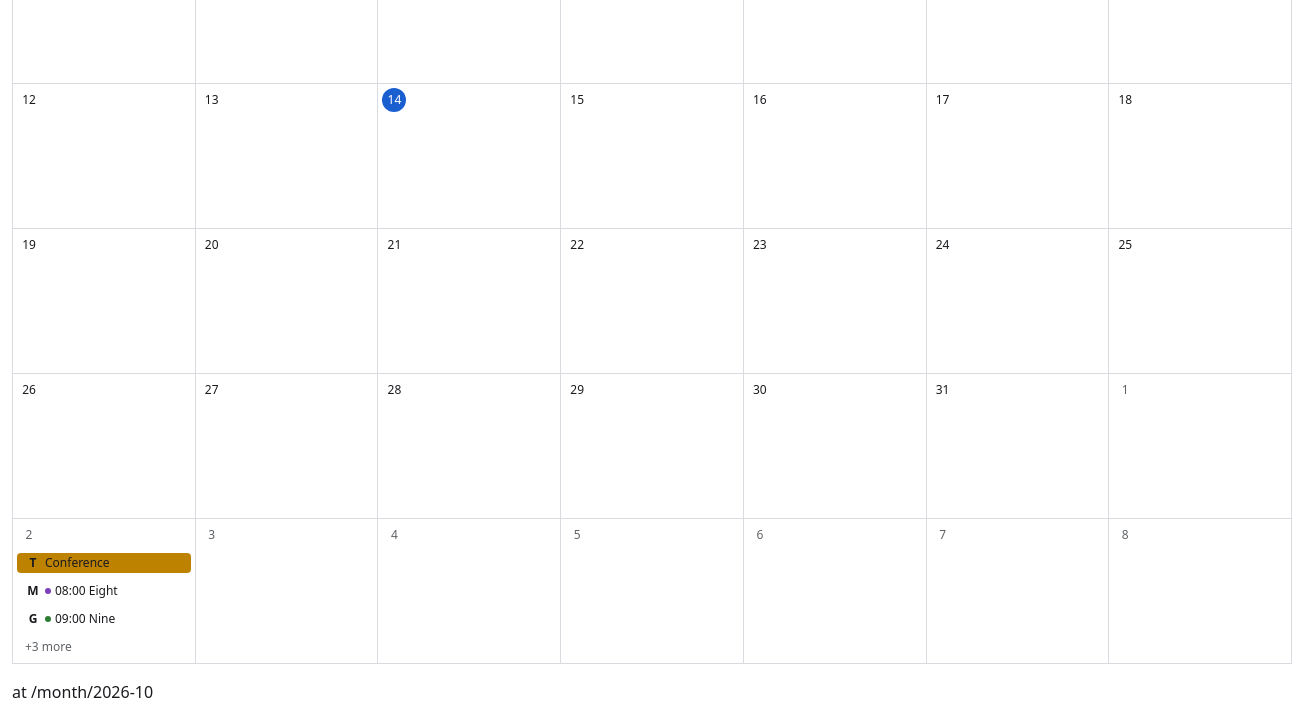
overflow by breakpoint (AC-5, Block 6) › the more-button of a trailing day zero-pads its URL: /day/2026-11-02
(page scrolled)
What coordinates should you click on to do the following:
click the button "+3 more"
I would click on:
 (48, 647)
Its box is [17,635,80,659].
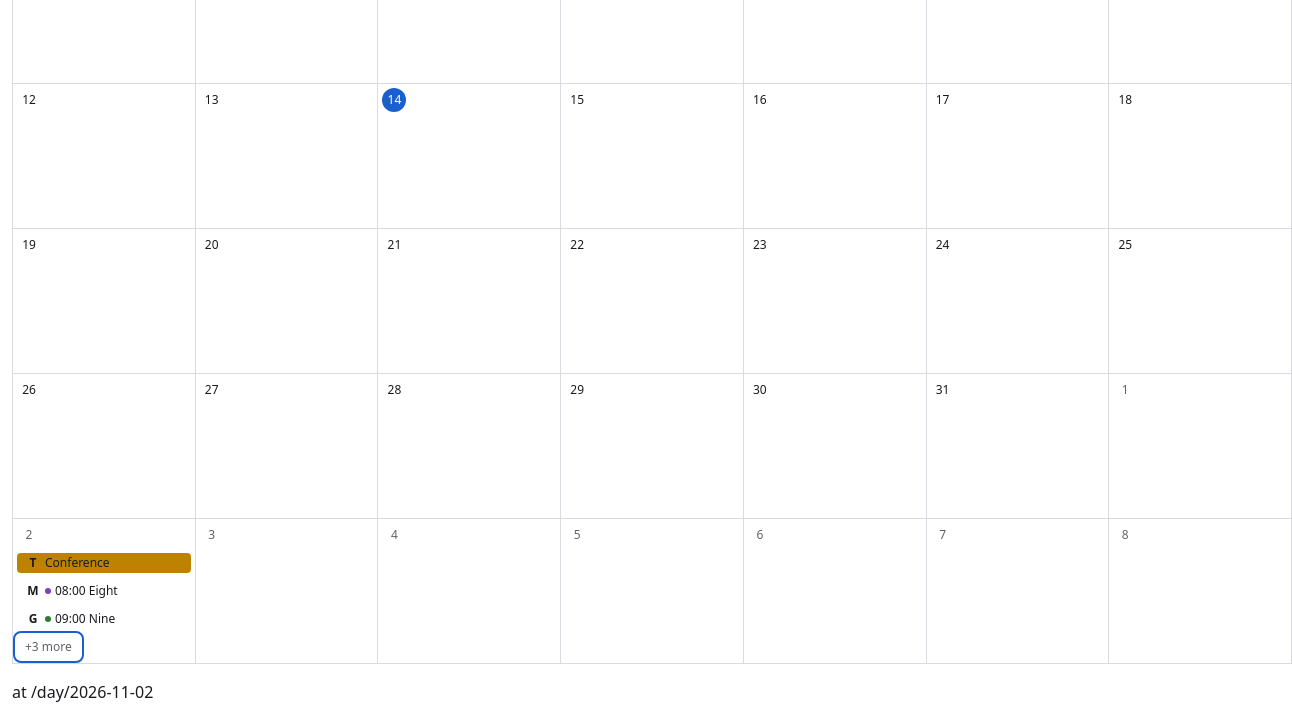
Result: the text "at /day/2026-11-02" is shown at [12,681,153,703]
